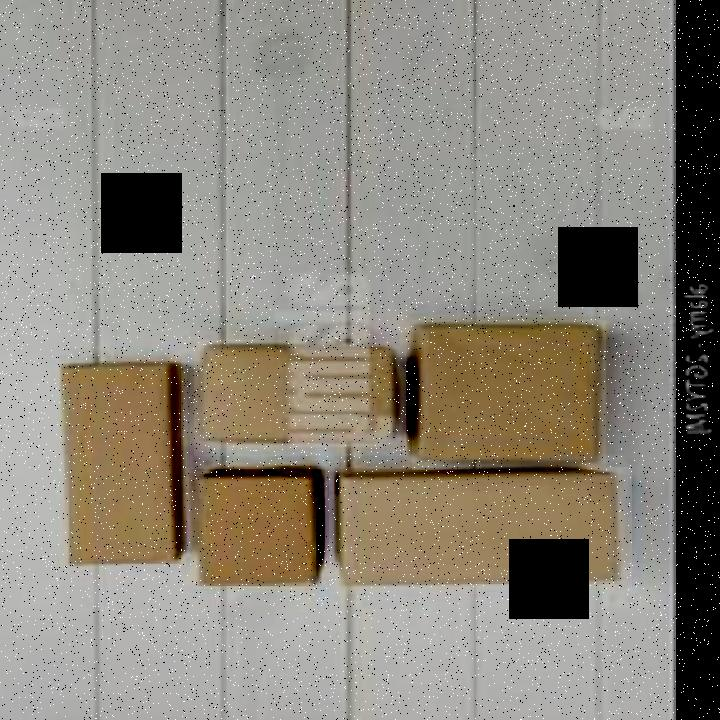box: (329, 468, 632, 596), (54, 356, 190, 573), (412, 320, 606, 470), (194, 340, 407, 456), (189, 469, 325, 591)
